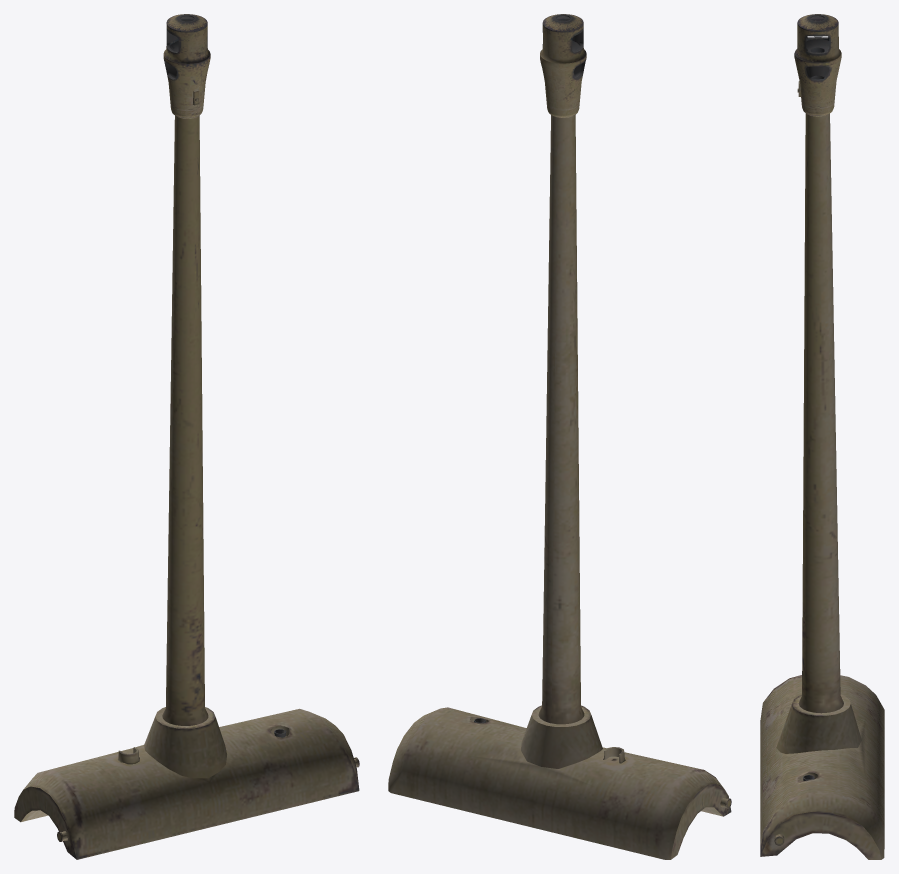
File: Gun_01.glb
3 renders of one model, left to right at view 1: azimuth 30°, elevation 25°; view 2: azimuth 150°, elevation 25°; view 3: azimuth 270°, elevation 25°, orthographic. The views are drawn at different scales.
Parts seen in each view (by area): view 1: set_0_group_0; view 2: set_0_group_0; view 3: set_0_group_0.
Part boxes in pixels (x1=…): set_0_group_0: x1=14, y1=14, x2=359, y2=859; set_0_group_0: x1=388, y1=14, x2=731, y2=859; set_0_group_0: x1=760, y1=14, x2=884, y2=859.
Size of the model in its own units: 1.76 by 4.45 by 0.6498.
Materials: 1 (1 with a texture image).
